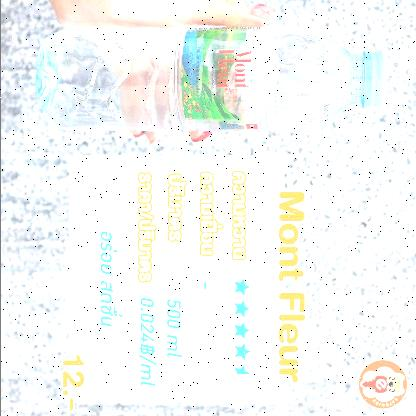Plastic Bottle: (34, 25, 386, 131)
